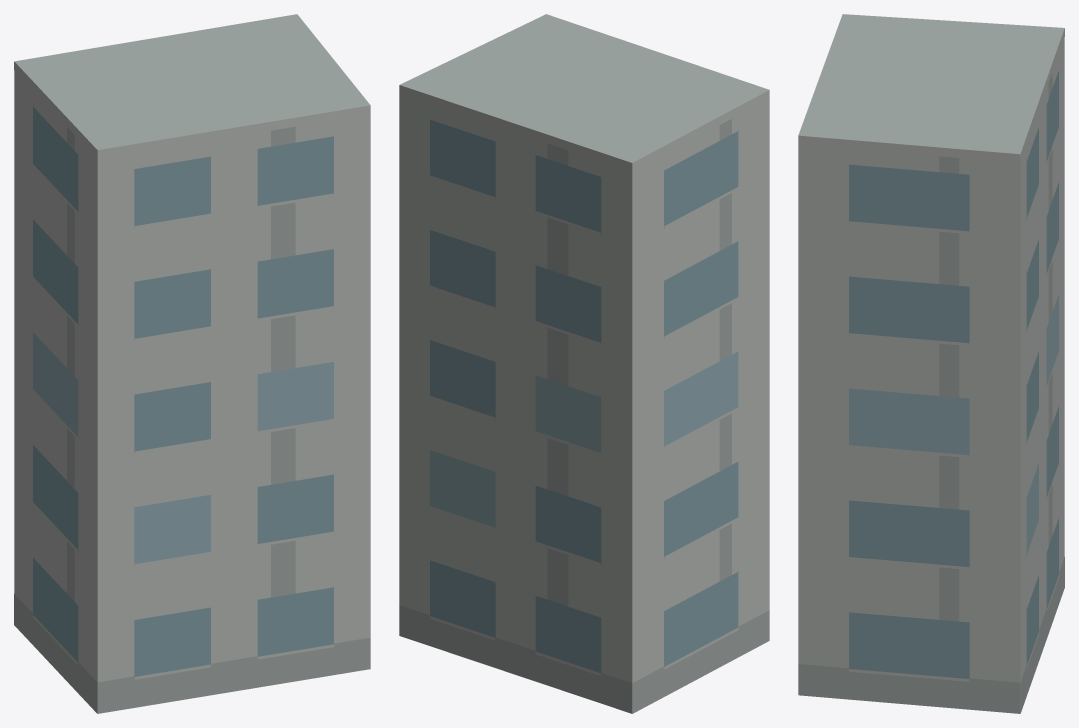
Rendered from survey-upis-32486244.glb.
3 renders of one model, left to right at view 1: azimuth 30°, elevation 25°; view 2: azimuth 150°, elevation 25°; view 3: azimuth 270°, elevation 25°, orthographic. The views are drawn at different scales.
Parts seen in each view (by area): view 1: survey-upis-32486244.tmp; view 2: survey-upis-32486244.tmp; view 3: survey-upis-32486244.tmp.
Part boxes in pixels (bbox=[...]): survey-upis-32486244.tmp: bbox=[14, 14, 370, 713]; survey-upis-32486244.tmp: bbox=[399, 14, 769, 713]; survey-upis-32486244.tmp: bbox=[798, 14, 1064, 713].
Bounding box in the file's own units: 8.2 × 15.25 × 6.59.
